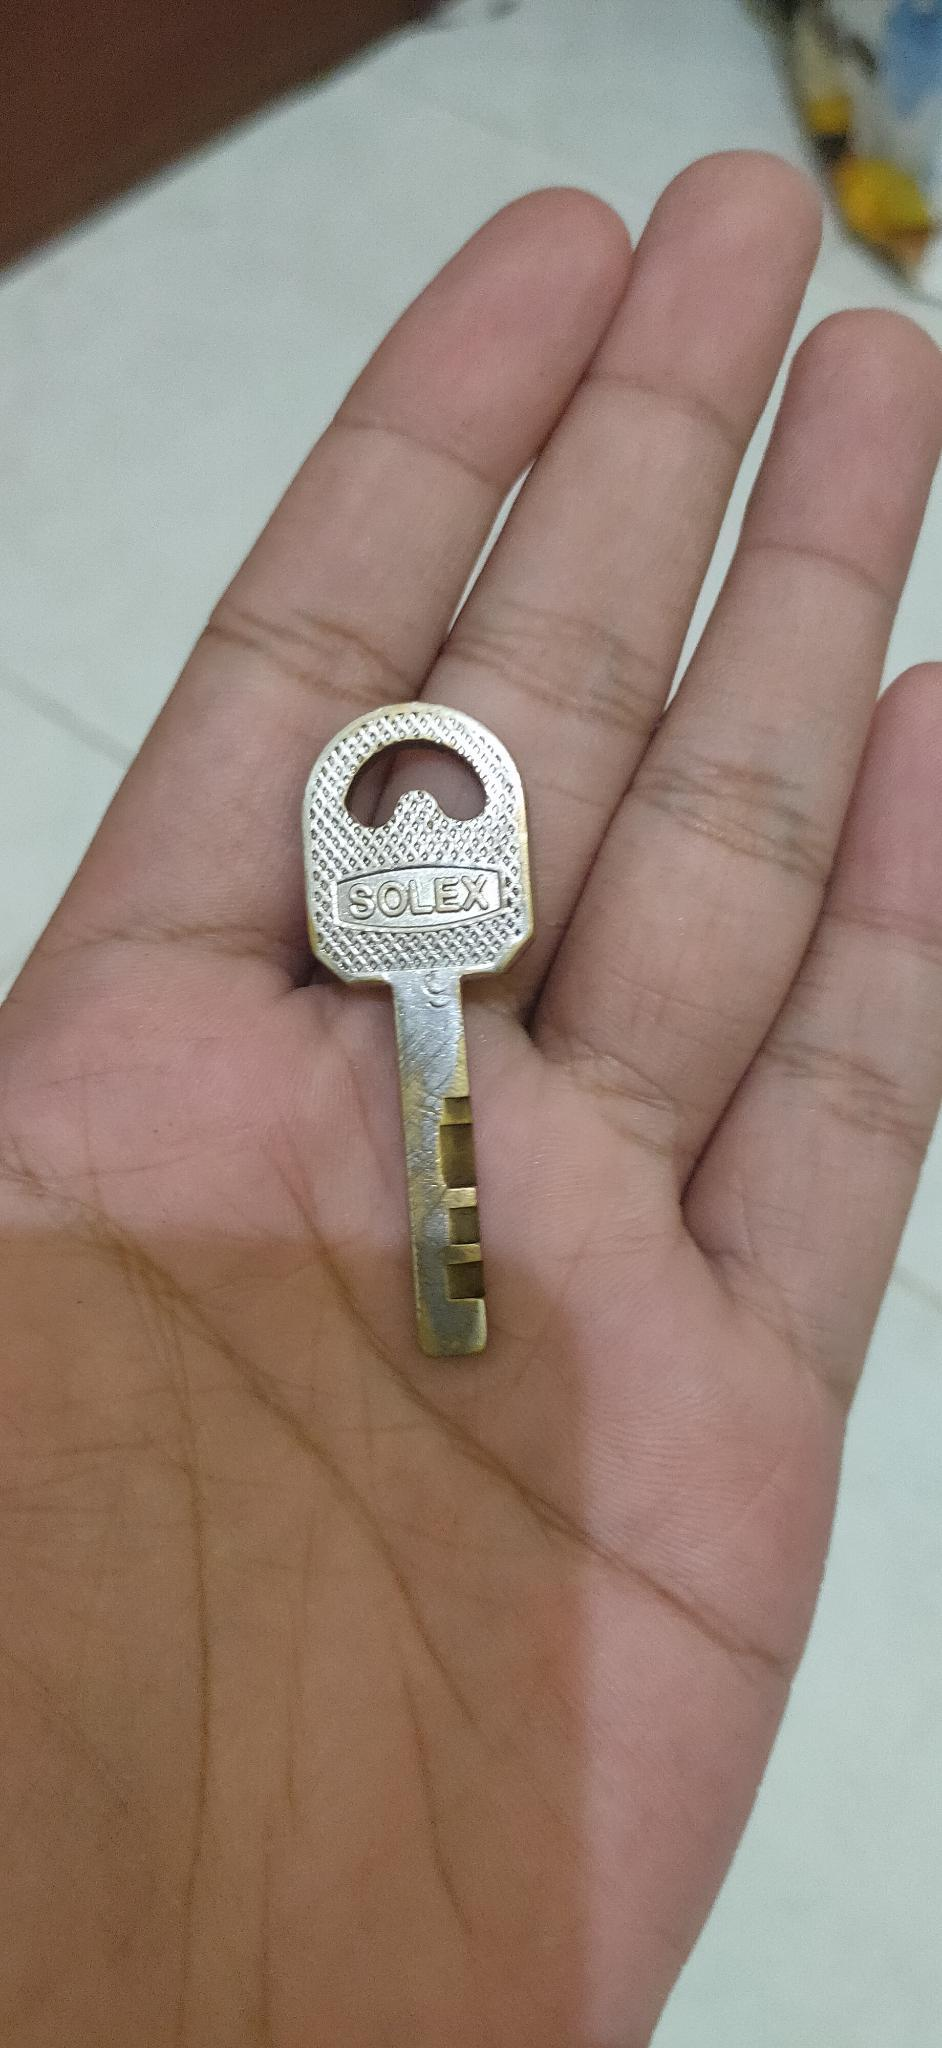keys: (287, 687, 568, 1377)
